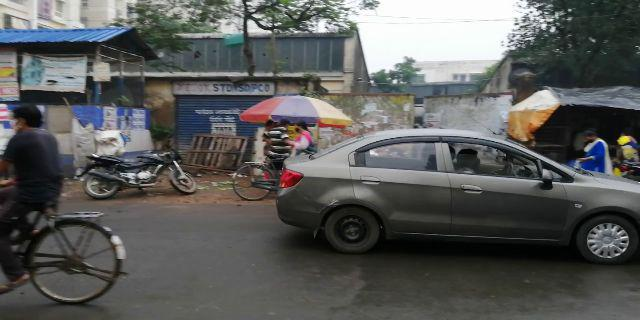Car: (274, 130, 634, 254)
Cycle: (1, 105, 123, 307)
Motorbike: (84, 151, 196, 193)
